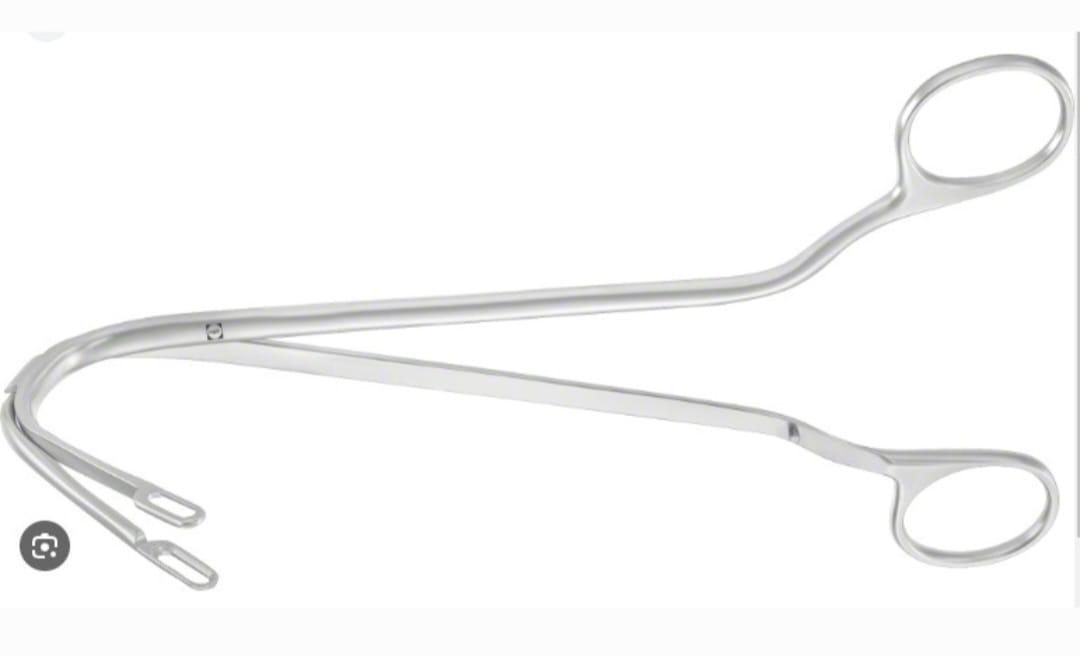Randall Forceps: (1, 49, 1066, 590)
